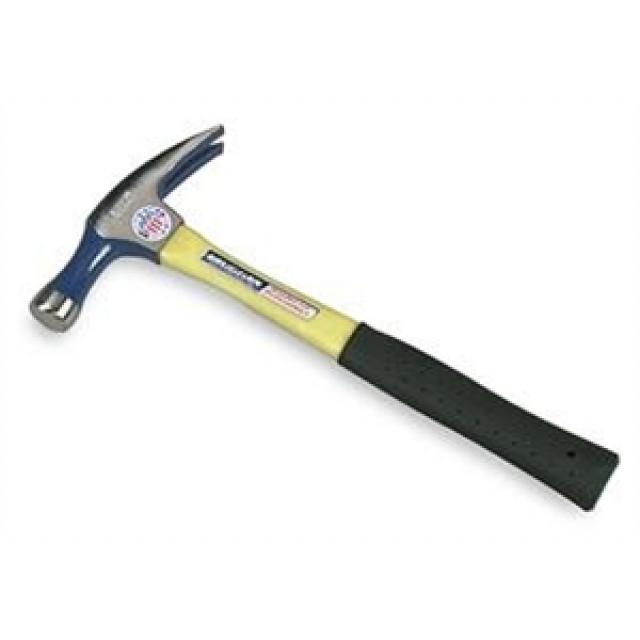hammer: (22, 115, 626, 528)
